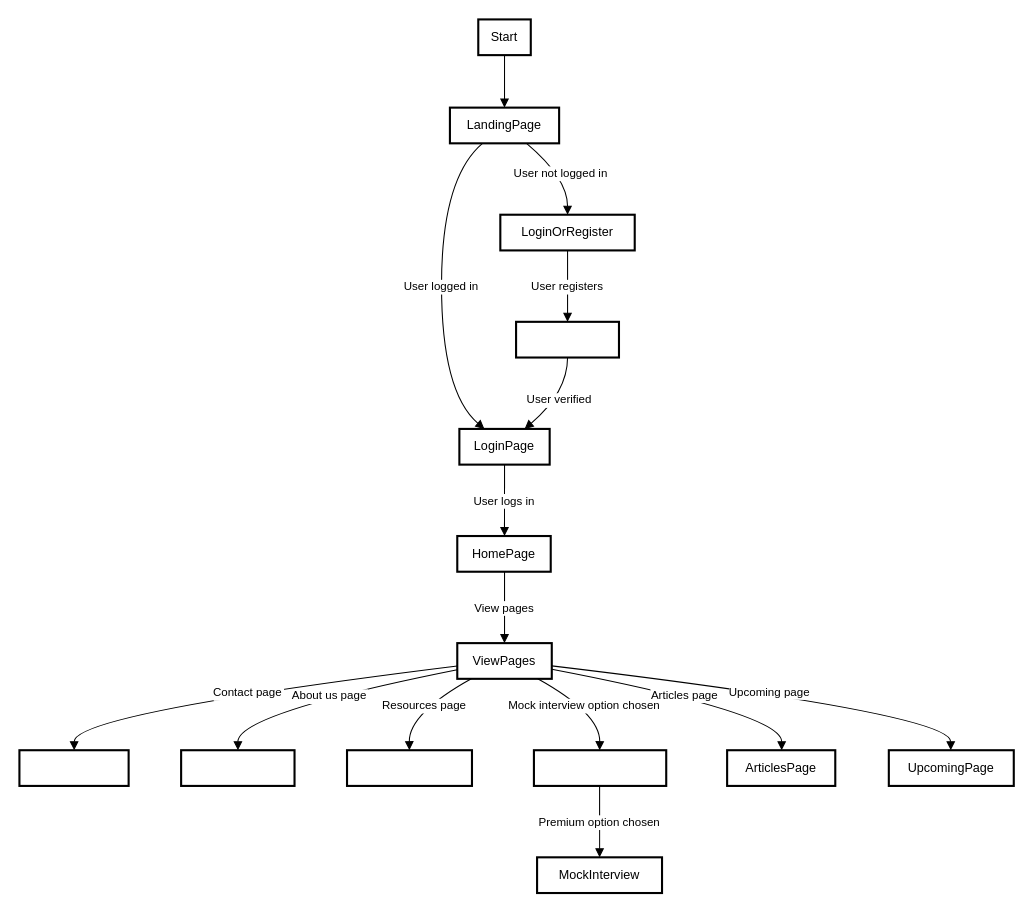
Image size: 1032x911. Some labels were removed from this diagram. Here are the shapes that lost their labels. From the top down, the centre of each, then its label:
At [567,339]: "Verification".
At [73,767]: "ContactPage".
At [237,767]: "AboutUsPage".
At [408,767]: "ResourcesPage".
At [599,767]: "PremiumOption".
